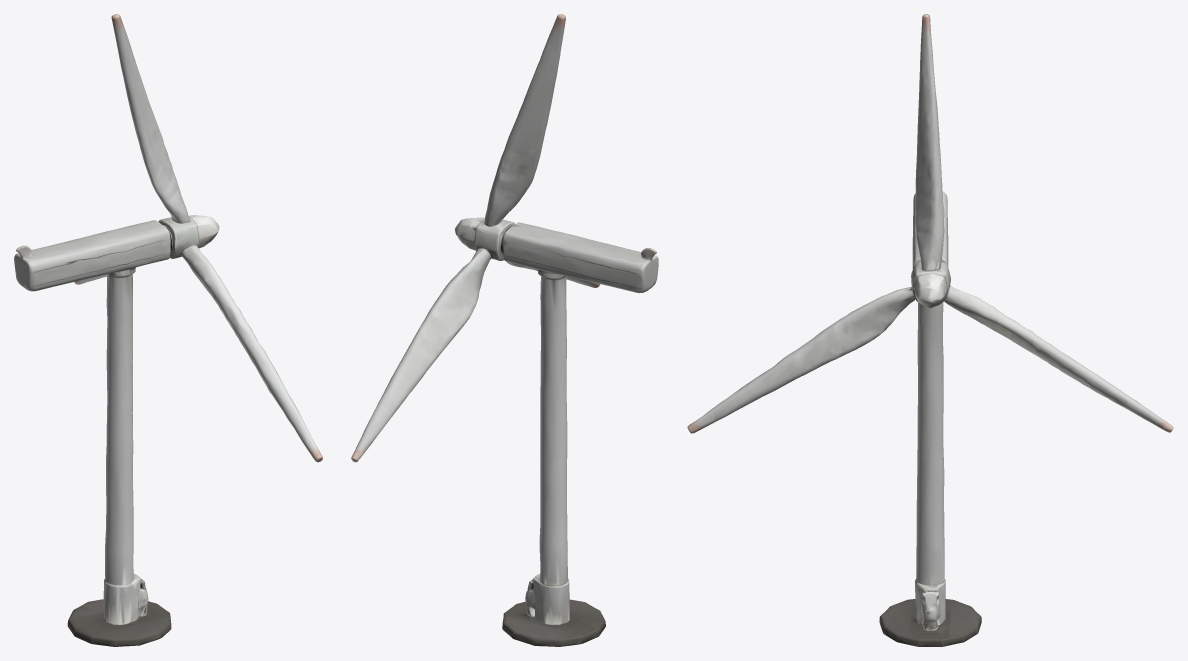
File: wind_turbine.glb
The picture shows the model from 3 angles, left to right: view 1: azimuth 30°, elevation 25°; view 2: azimuth 150°, elevation 25°; view 3: azimuth 270°, elevation 25°; orthographic projection.
Parts seen in each view (by area): view 1: tripo_node_e119ad90-6c94-4653-a9e3-97b8fd2f97cd; view 2: tripo_node_e119ad90-6c94-4653-a9e3-97b8fd2f97cd; view 3: tripo_node_e119ad90-6c94-4653-a9e3-97b8fd2f97cd.
Part boxes in pixels (box(x1,y1,x2,y2)): tripo_node_e119ad90-6c94-4653-a9e3-97b8fd2f97cd: box(14, 14, 322, 646); tripo_node_e119ad90-6c94-4653-a9e3-97b8fd2f97cd: box(351, 14, 658, 646); tripo_node_e119ad90-6c94-4653-a9e3-97b8fd2f97cd: box(687, 14, 1173, 646).
Bounding box in the file's own units: 0.3453 × 1 × 0.7237.
Materials: 1 (1 with a texture image).
